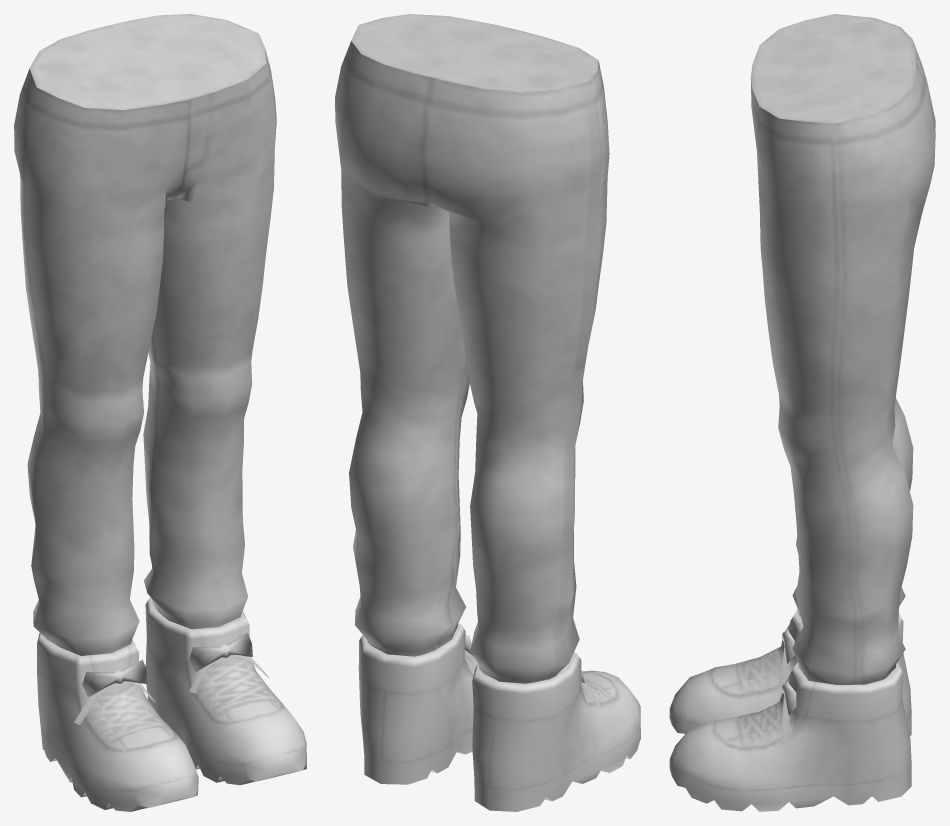
File: tr0760_00_lwb03.gltf
3 renders of one model, left to right at view 1: azimuth 30°, elevation 25°; view 2: azimuth 150°, elevation 25°; view 3: azimuth 270°, elevation 25°, orthographic. The views are drawn at different scales.
Parts seen in each view (by area): view 1: lwb03_lowerbody_mesh_shape:lowerbody03, lwb03_shoes_mesh_shape:lowerbody03; view 2: lwb03_lowerbody_mesh_shape:lowerbody03, lwb03_shoes_mesh_shape:lowerbody03; view 3: lwb03_lowerbody_mesh_shape:lowerbody03, lwb03_shoes_mesh_shape:lowerbody03.
Part boxes in pixels (x1=…): lwb03_lowerbody_mesh_shape:lowerbody03: x1=14, y1=14, x2=276, y2=655; lwb03_shoes_mesh_shape:lowerbody03: x1=37, y1=597, x2=306, y2=811; lwb03_lowerbody_mesh_shape:lowerbody03: x1=335, y1=14, x2=609, y2=683; lwb03_shoes_mesh_shape:lowerbody03: x1=358, y1=623, x2=640, y2=811; lwb03_lowerbody_mesh_shape:lowerbody03: x1=750, y1=14, x2=935, y2=684; lwb03_shoes_mesh_shape:lowerbody03: x1=669, y1=609, x2=911, y2=811.
Size of what is drawn, in the model's own units: 0.349 by 0.9321 by 0.3223.
Materials: 1 (1 with a texture image).
